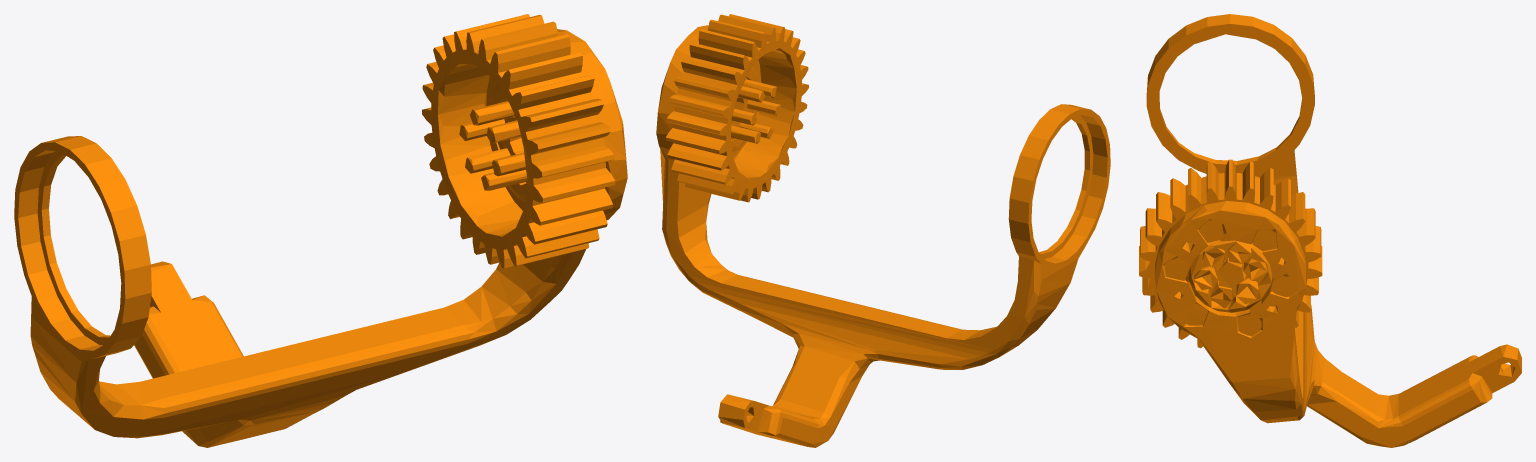
File: gripper_motor_single.dae
3 views of the same model, side by side, from view 1: azimuth 30°, elevation 25°; view 2: azimuth 150°, elevation 25°; view 3: azimuth 270°, elevation 25° (orthographic). The views are drawn at different scales.
Parts seen in each view (by area): view 1: node; view 2: node; view 3: node.
Boxes of the visible parts, x1,y1,x2,y2 form: node: (14,14,627,447); node: (656,14,1110,447); node: (1139,14,1521,447).
Bounding box in the file's own units: 0.1056 × 0.086 × 0.0908.
1 material, 1 textured.
